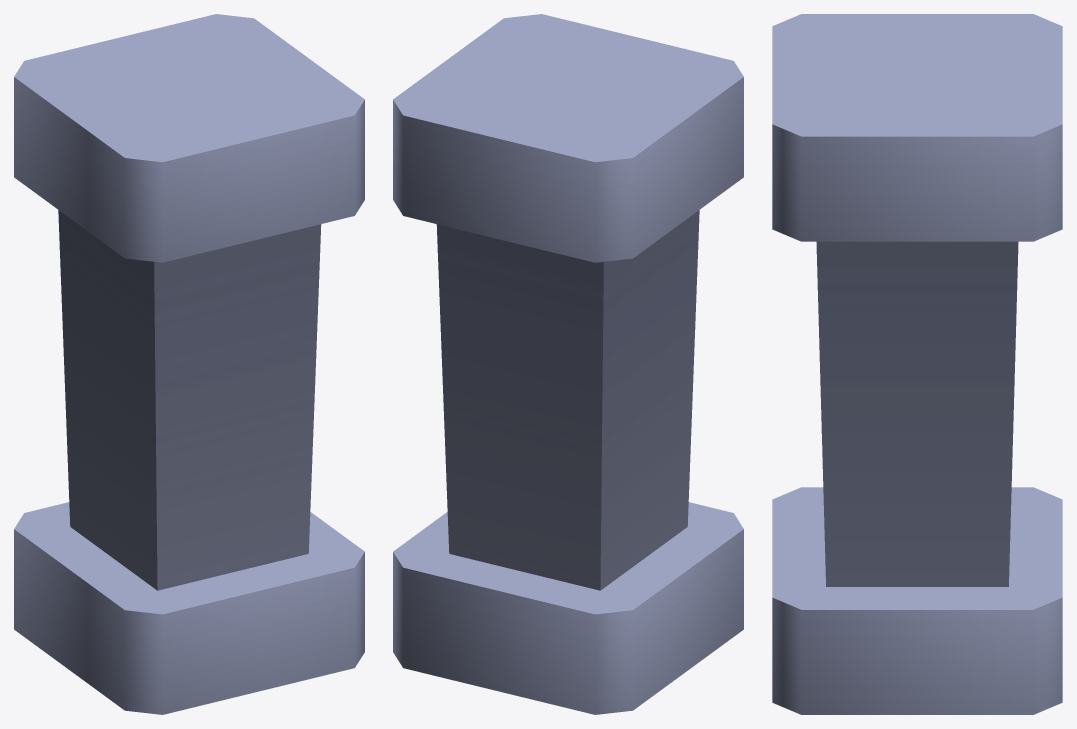
Rendered from column.glb.
3 views of the same model, side by side, from view 1: azimuth 30°, elevation 25°; view 2: azimuth 150°, elevation 25°; view 3: azimuth 270°, elevation 25° (orthographic). The views are drawn at different scales.
Parts seen in each view (by area): view 1: column; view 2: column; view 3: column.
Boxes of the visible parts, x1=… form: column: x1=14, y1=14, x2=364, y2=714; column: x1=393, y1=14, x2=743, y2=714; column: x1=772, y1=14, x2=1062, y2=714.
Size of the model in its own units: 0.5 by 1.1 by 0.5.
1 material, 1 textured.
